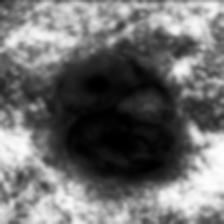Potentially Malignant Skin Tumors: (57, 55, 177, 182)
